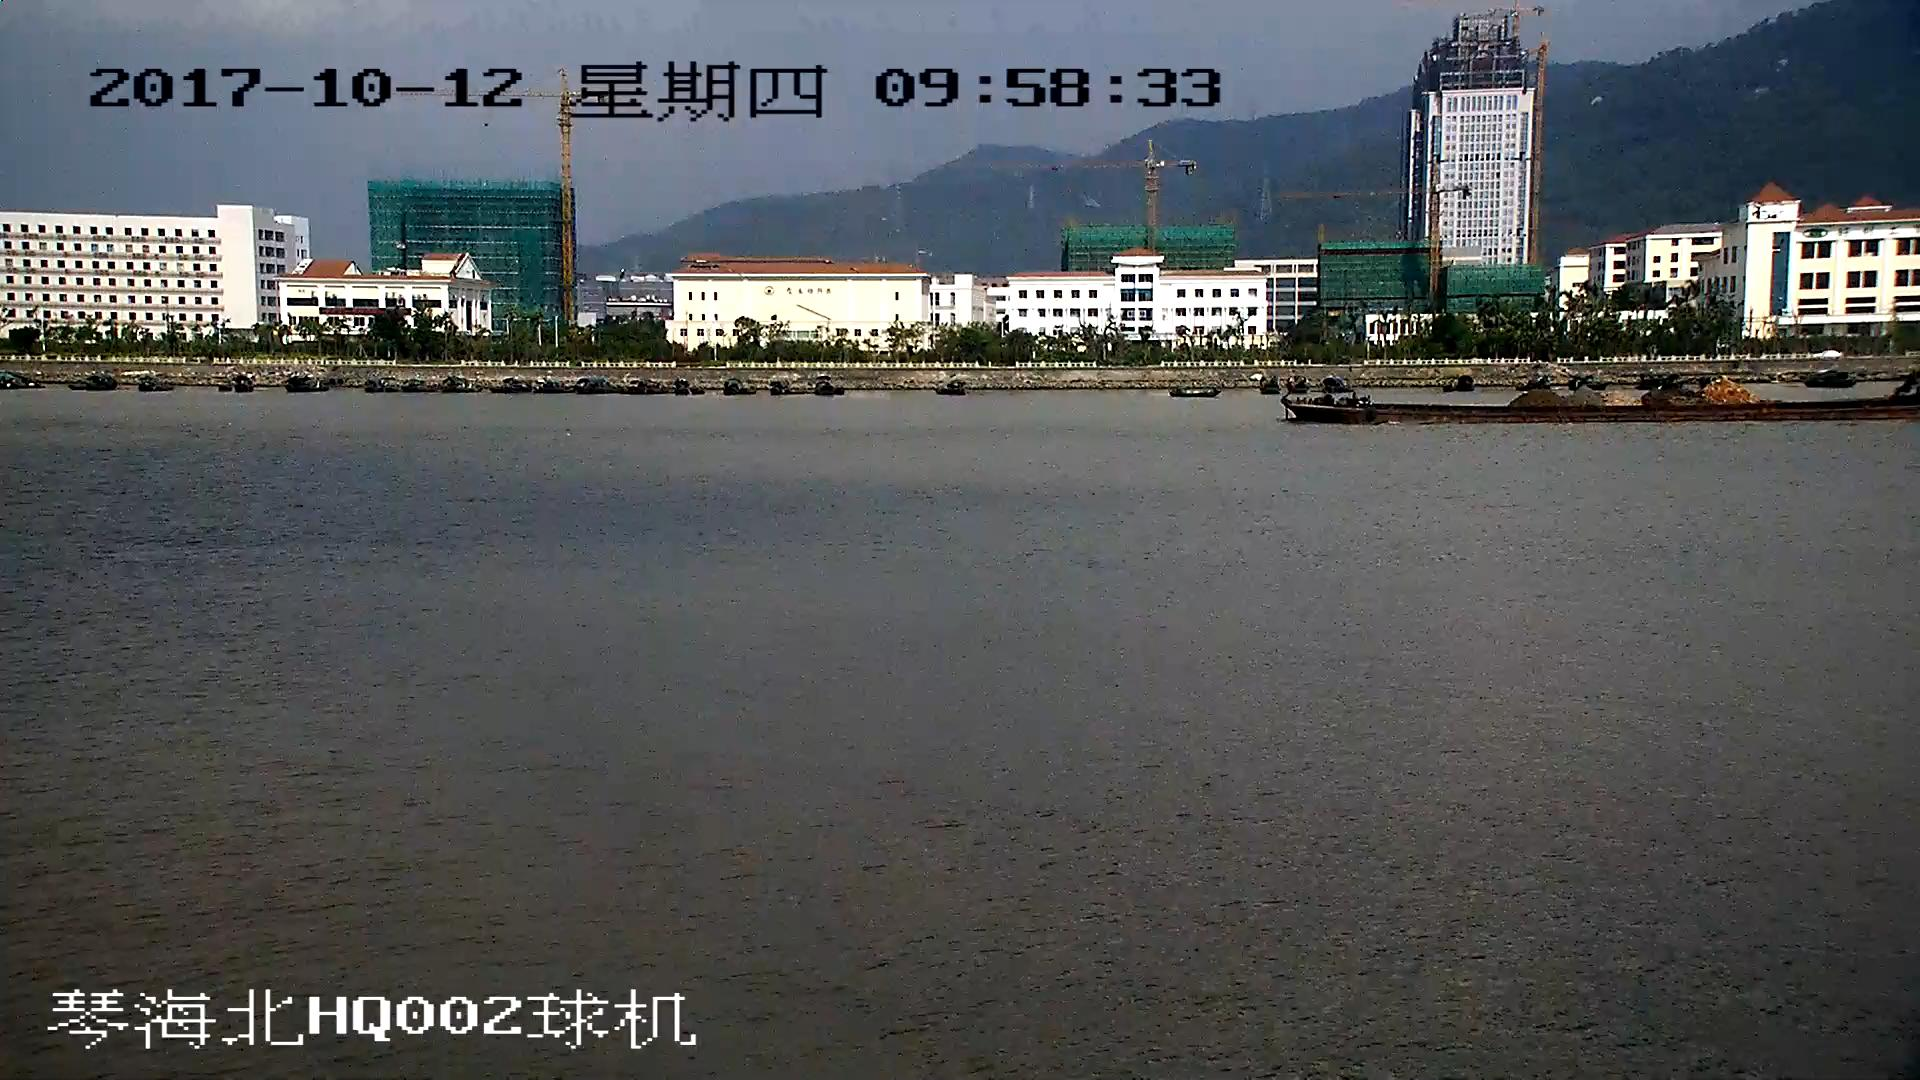ore carrier: (1284, 381, 1920, 425)
